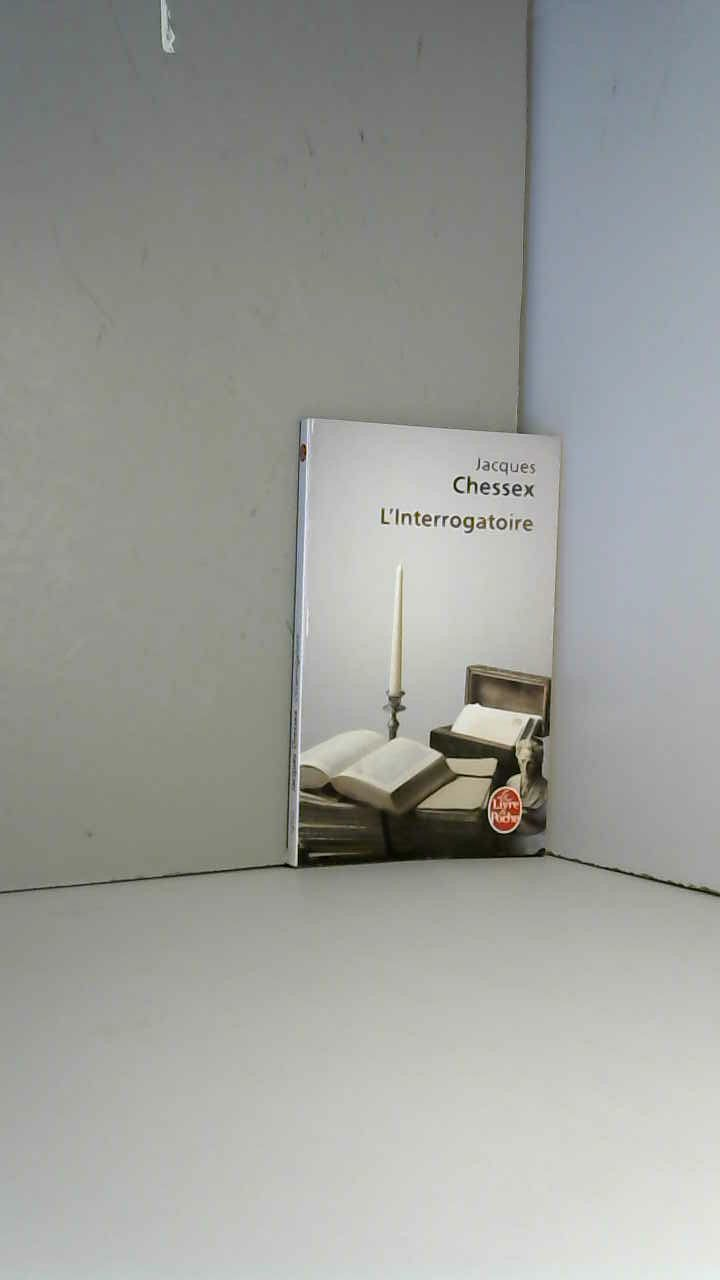book: (268, 400, 576, 888)
